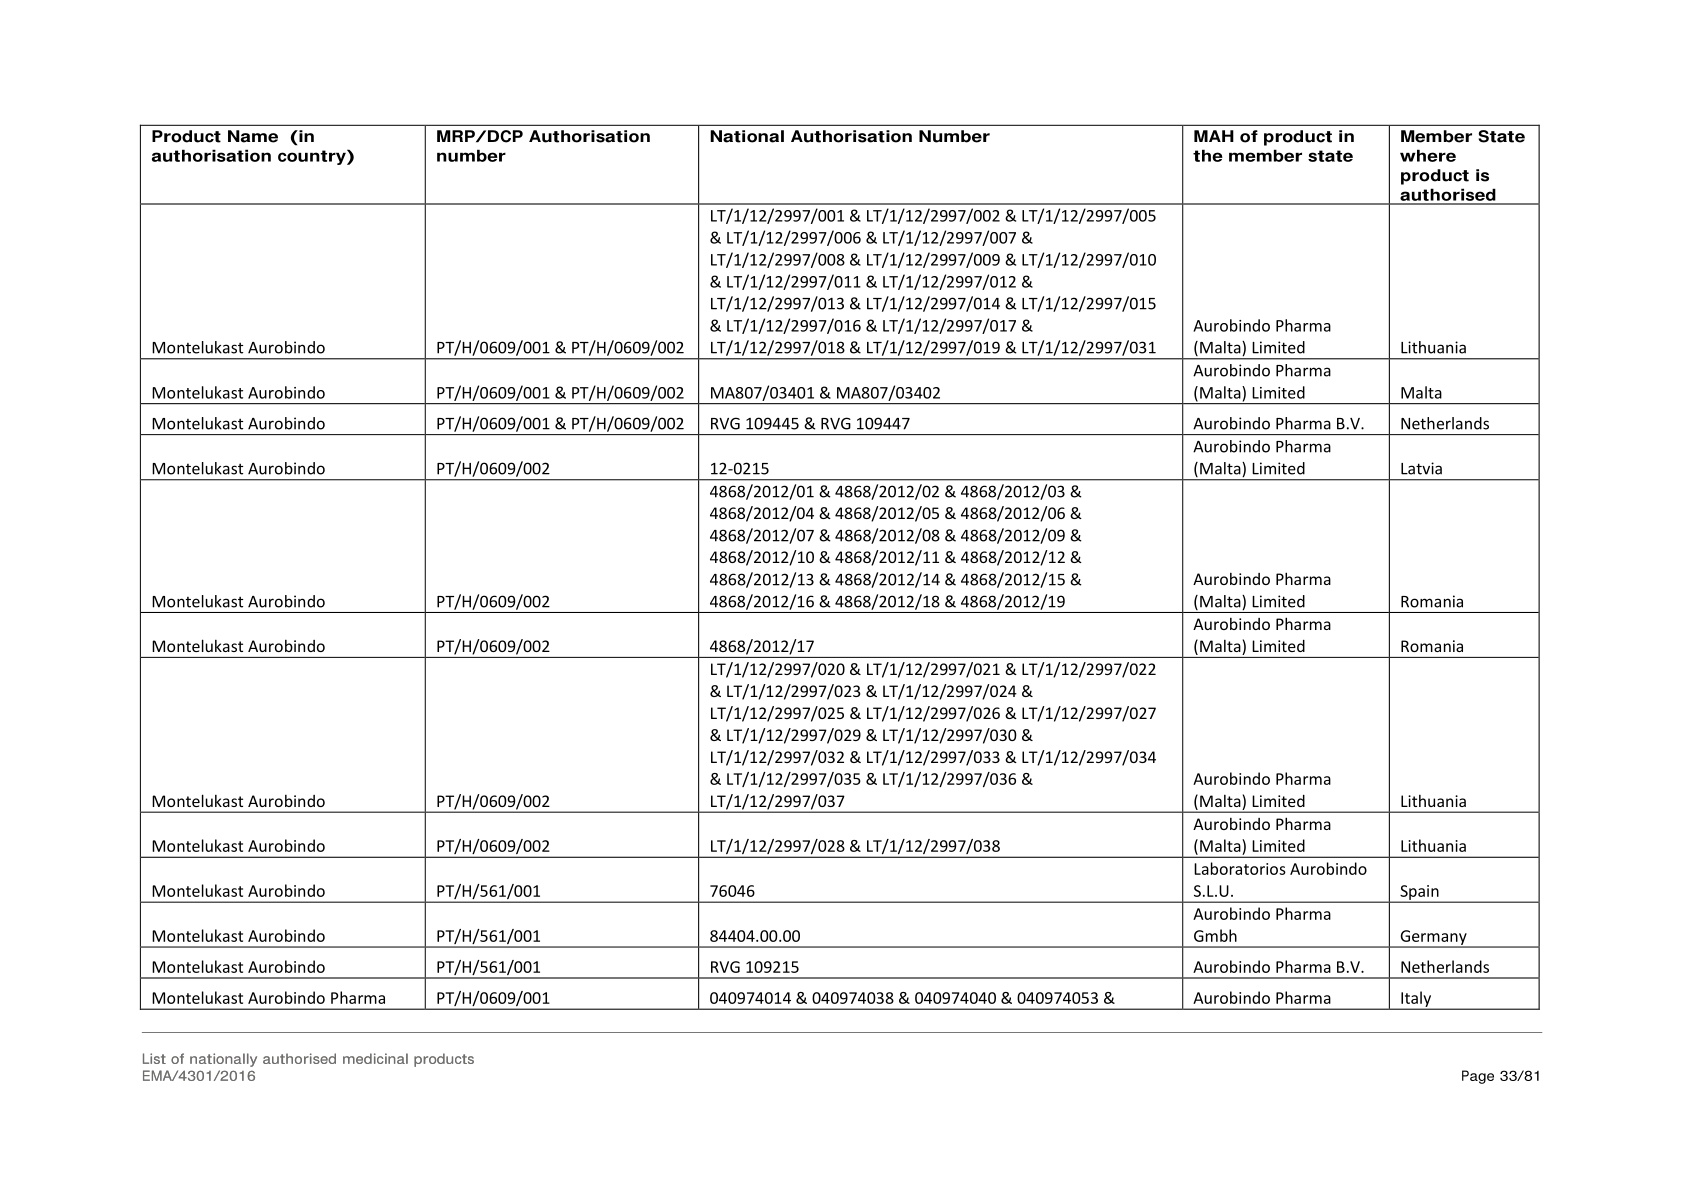full_lined: (138, 122, 1541, 1011)
